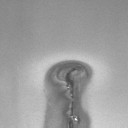slag inclusion: (43, 60, 94, 128)
